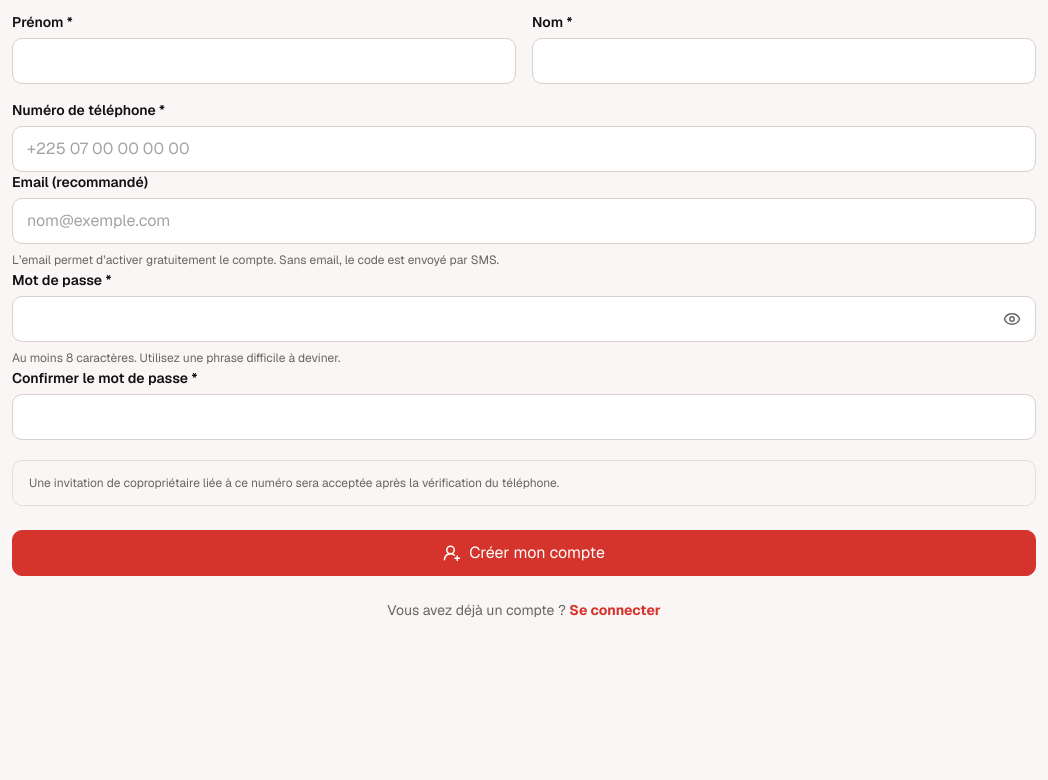
Test: RegisterForm › shows password mismatch error
Type "Jean" into the field labelled "Prénom *".
click(264, 61); type("Jean")  # box [12,38,516,84]
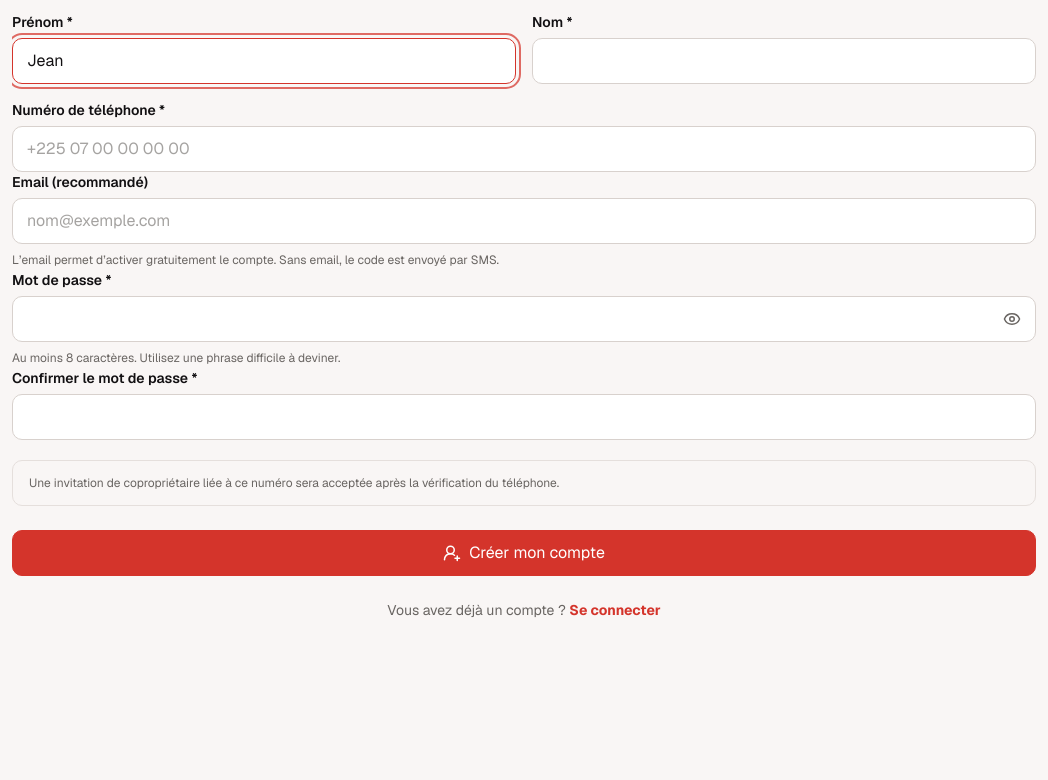
Type "Dupont" into the field labelled "Nom *".
click(784, 61); type("Dupont")  # box [532,38,1036,84]
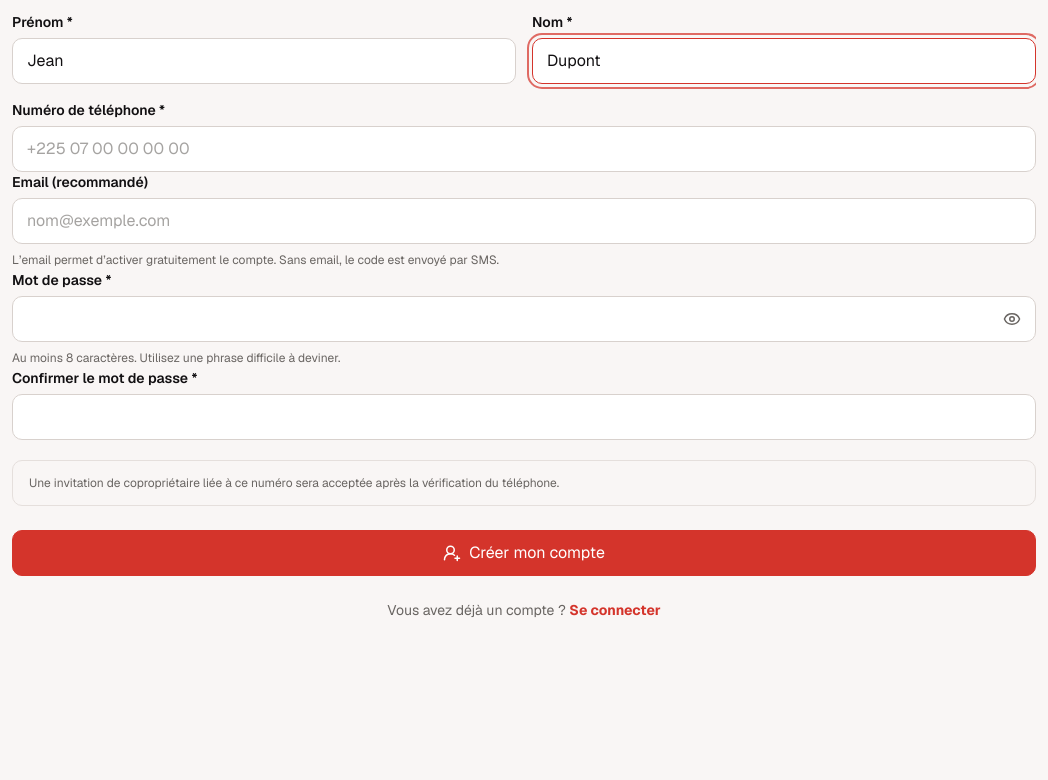
Type "+22507000000" into the field labelled "Numéro de téléphone *".
click(524, 149); type("+22507000000")  # box [12,126,1036,172]
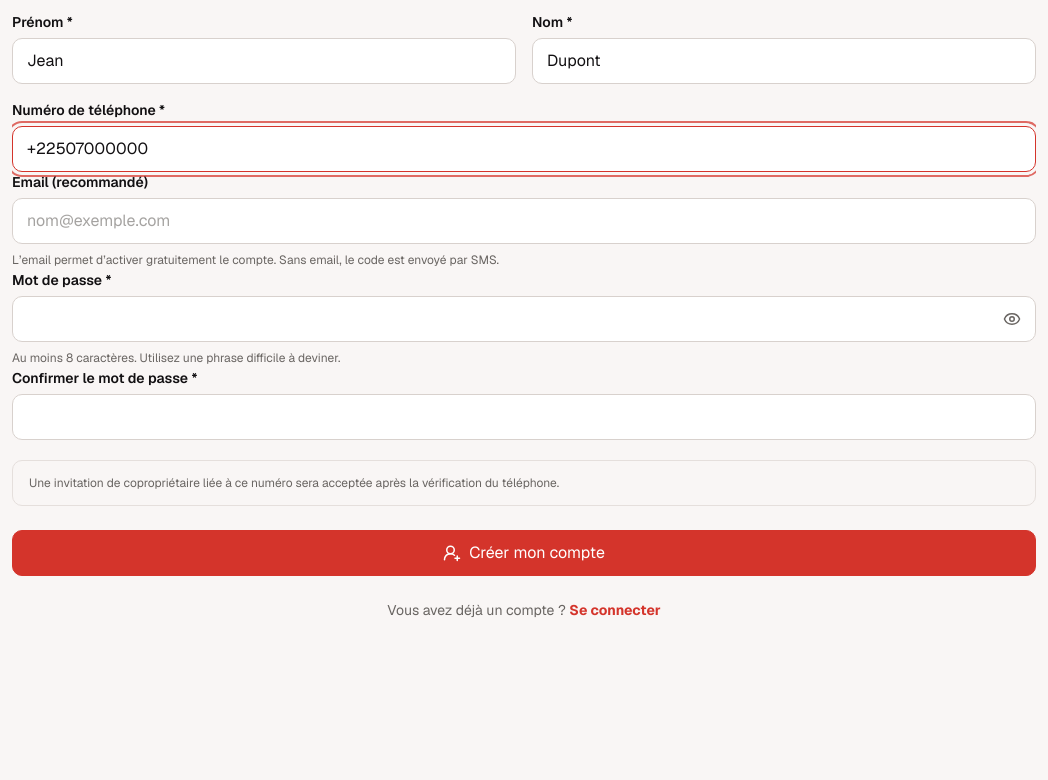
Type "secret123" into the 1st password field.
click(524, 319); type("secret123")  # box [12,296,1036,342]
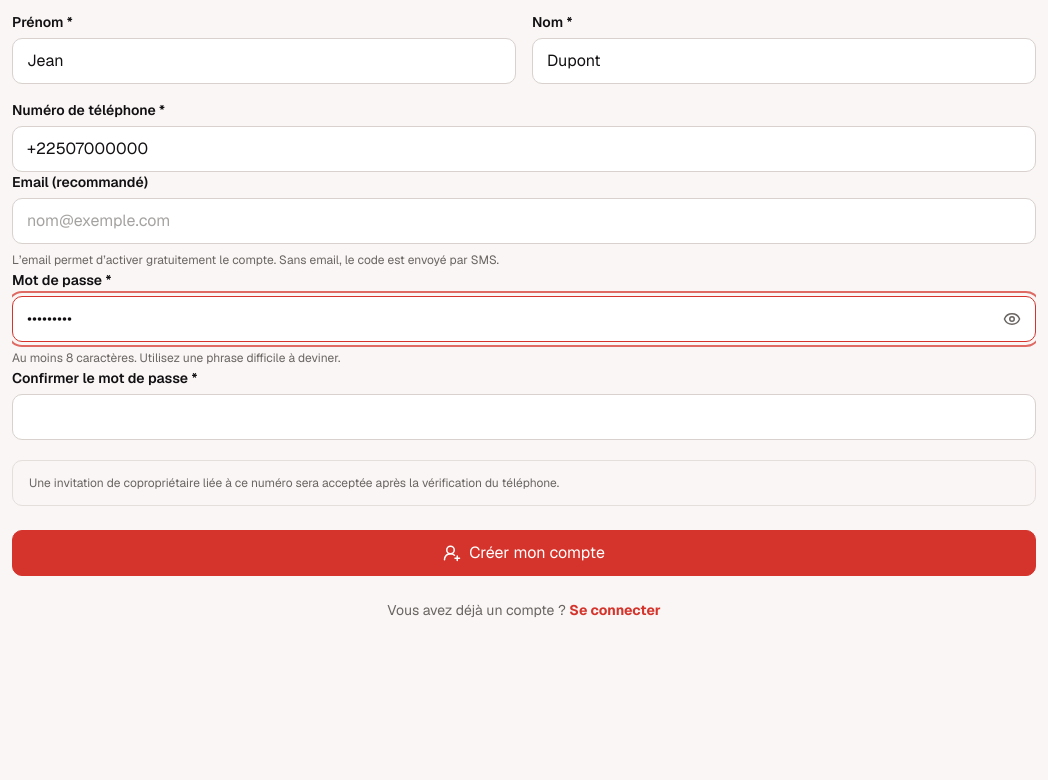
Type "different" into the password field labelled "Confirmer le mot de passe *".
click(524, 417); type("different")  # box [12,394,1036,440]
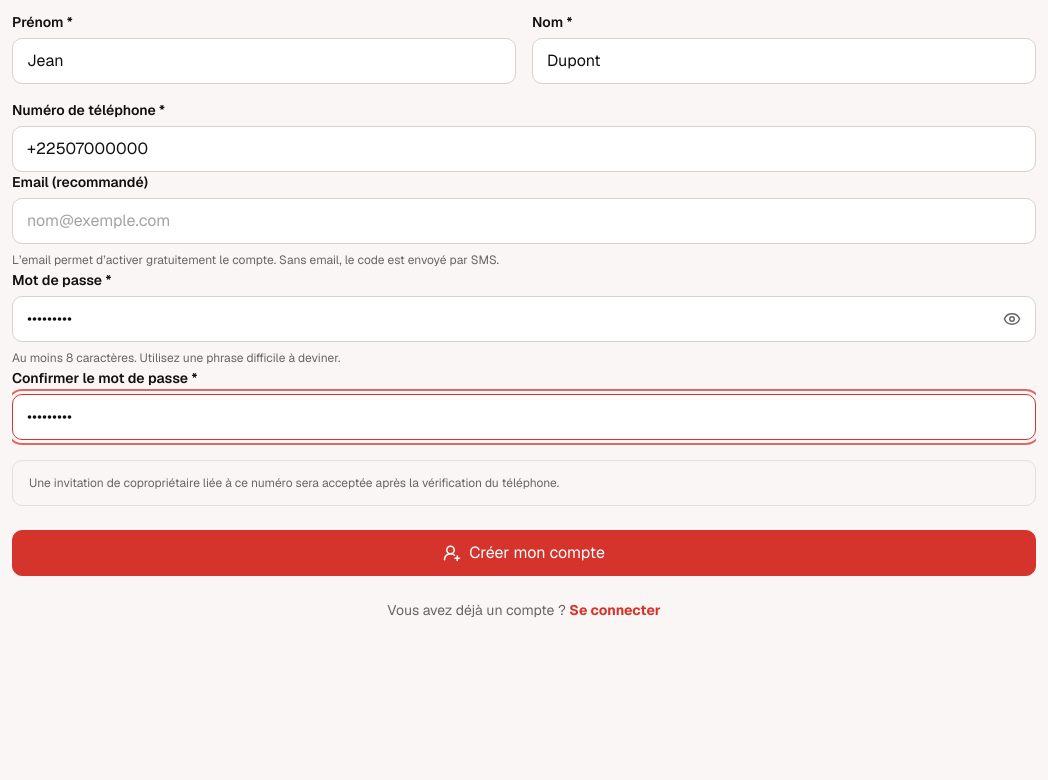
Click the button "Créer mon compte".
click(524, 553)  # box [12,530,1036,576]
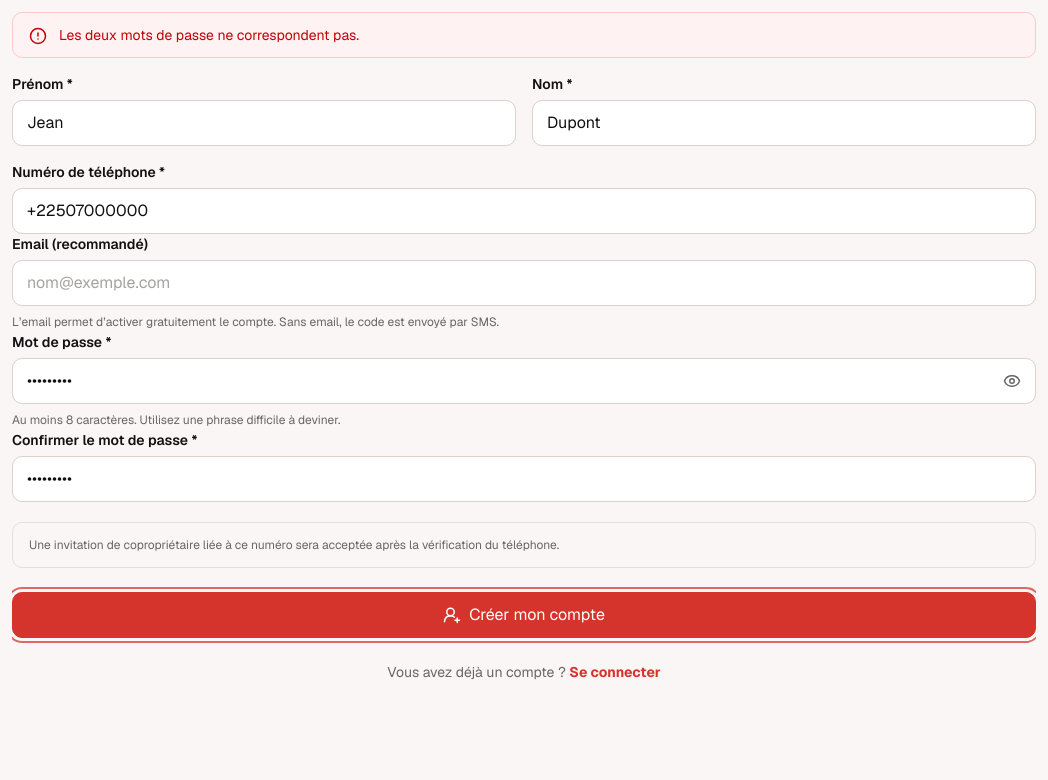
Check: the text "Les deux mots de passe ne correspondent pas." is shown, box [59,25,359,45]
